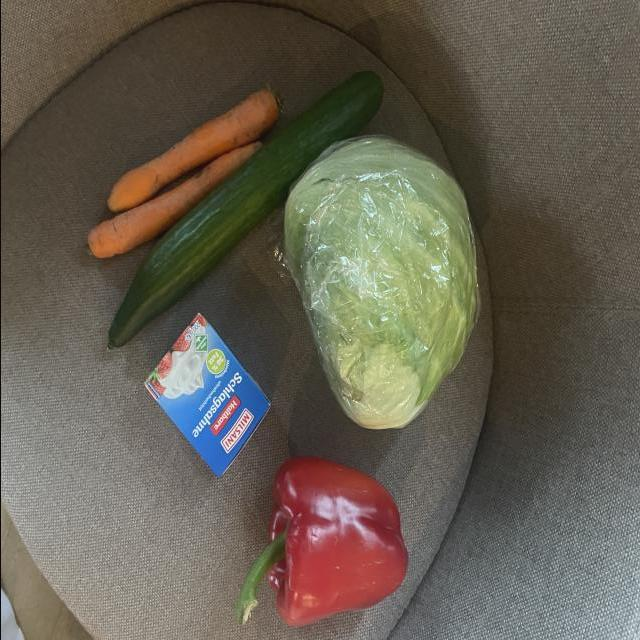bell_pepper: (233, 459, 413, 635)
cabbage: (283, 107, 485, 441)
carrot: (71, 74, 272, 222), (92, 135, 266, 271)
cucumber: (89, 69, 400, 385)
